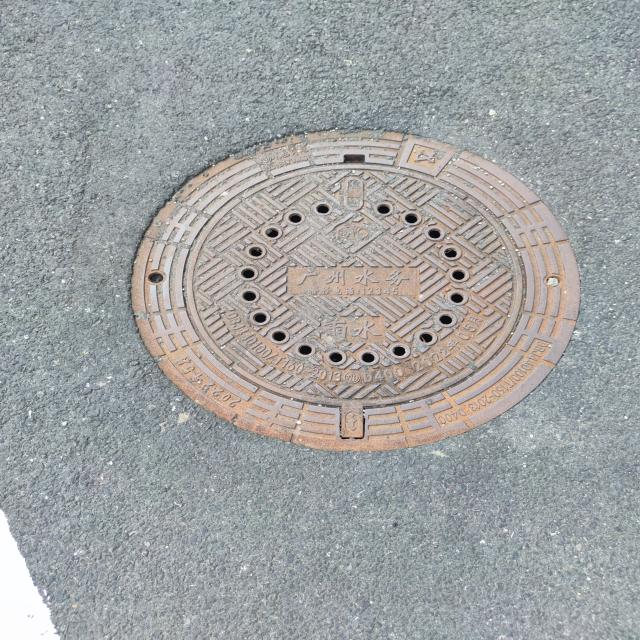Good: (120, 118, 592, 457)
